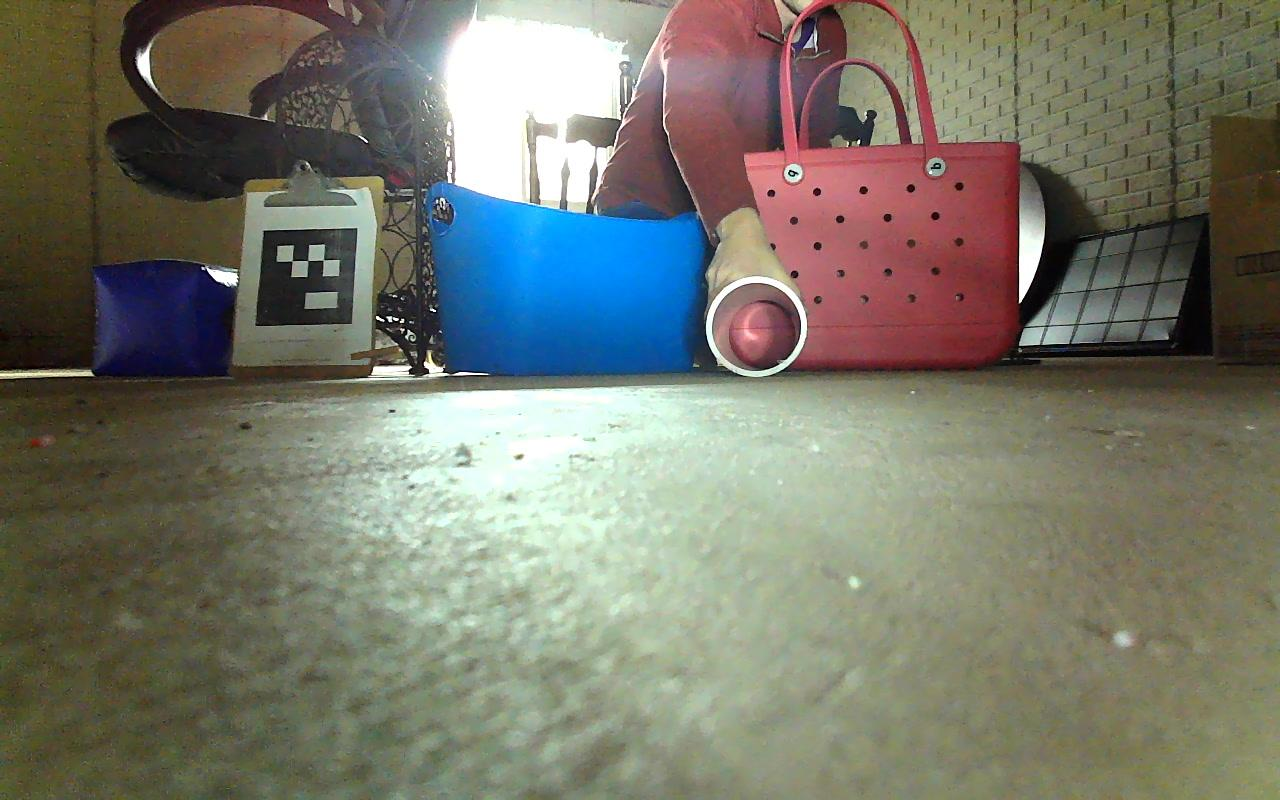coral: (706, 275, 809, 376)
